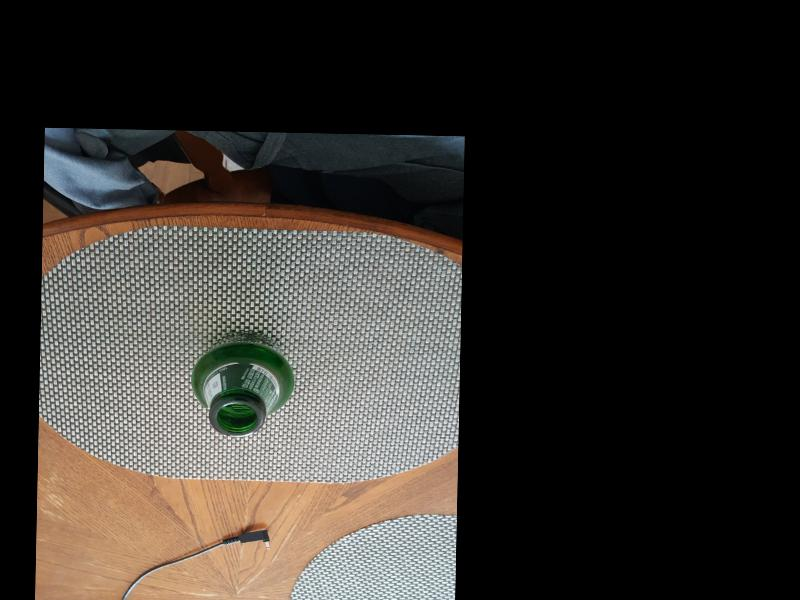Beer: (196, 331, 290, 436)
